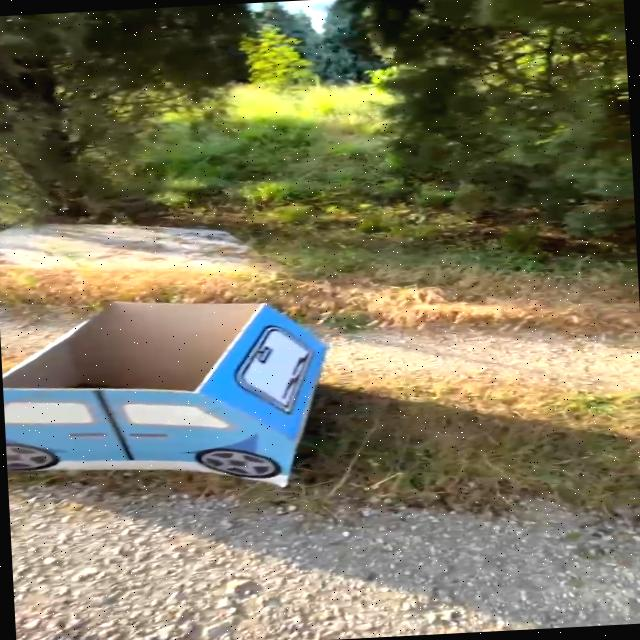blue_car: (0, 269, 380, 524)
